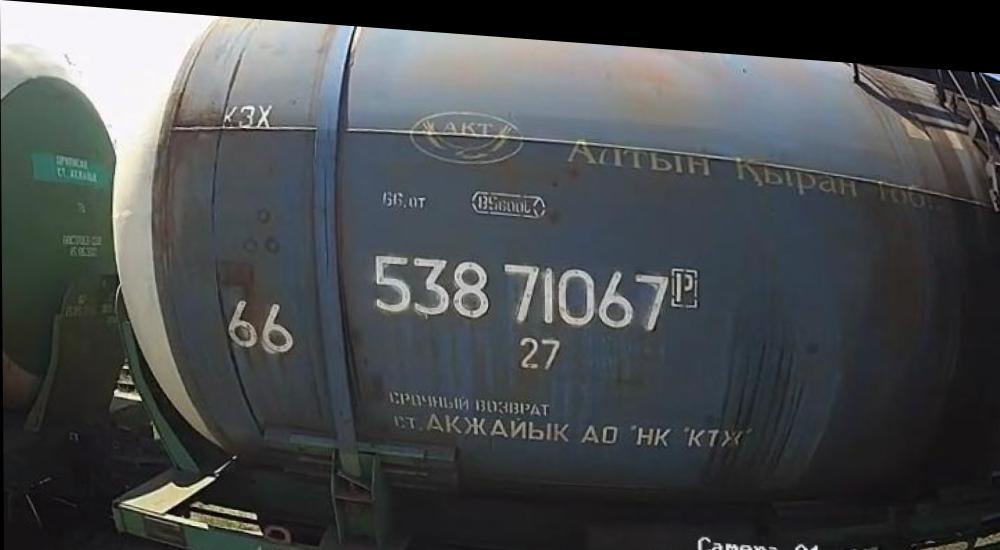Wagon-number: (369, 237, 675, 331)
